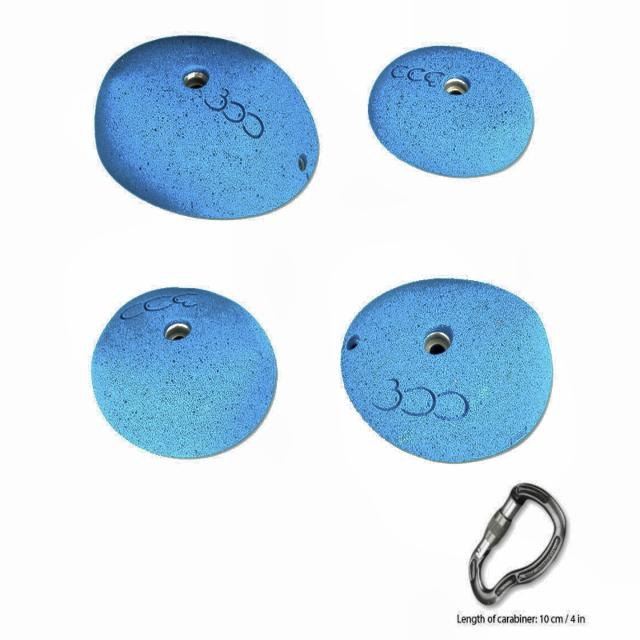Hold: (97, 37, 318, 218), (340, 278, 551, 466), (91, 287, 275, 458), (374, 46, 534, 178)
